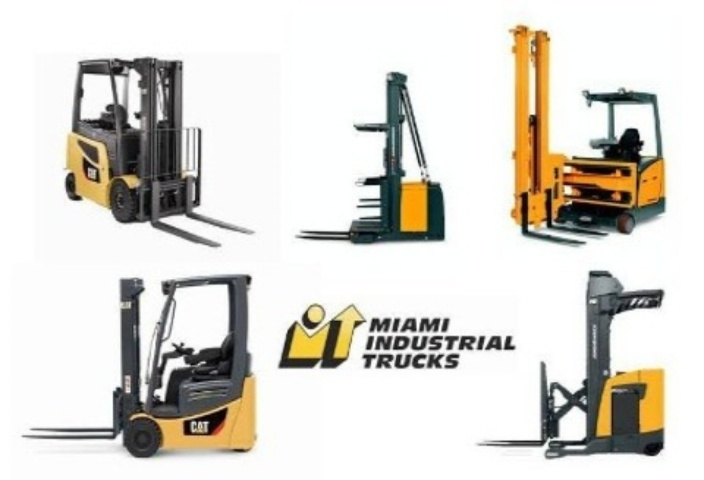industrial: (1, 268, 275, 456), (453, 264, 687, 464), (60, 47, 261, 263), (500, 18, 676, 249)
